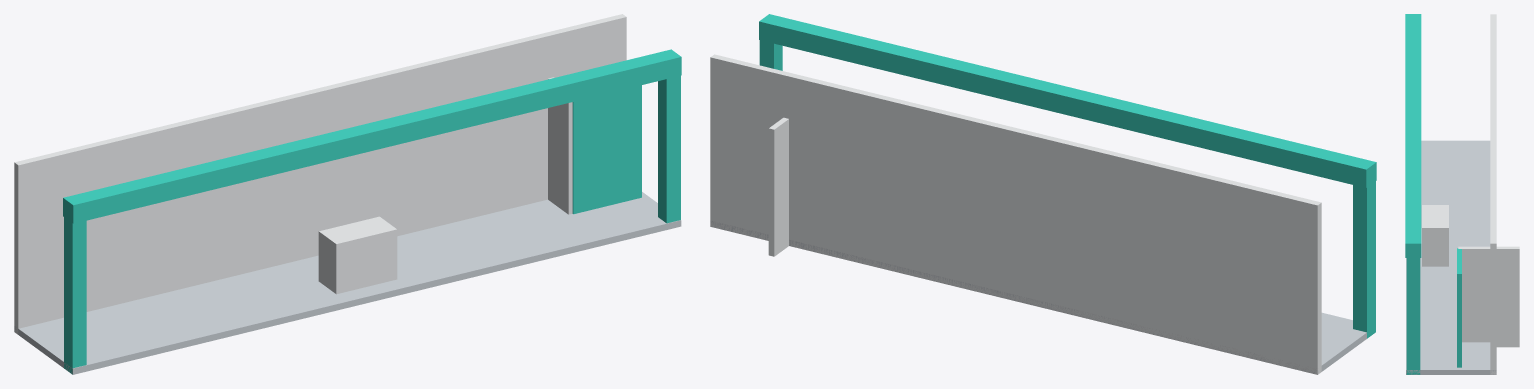
3 views of the same model, side by side, from view 1: azimuth 30°, elevation 25°; view 2: azimuth 150°, elevation 25°; view 3: azimuth 270°, elevation 25° (orthographic). The views are drawn at different scales.
Parts seen in each view (by area): view 1: Exhibition Booth Concept; view 2: Exhibition Booth Concept; view 3: Exhibition Booth Concept.
Part boxes in pixels (box(x1,y1,x2,y2)): Exhibition Booth Concept: box(14, 14, 681, 374); Exhibition Booth Concept: box(710, 14, 1376, 374); Exhibition Booth Concept: box(1405, 14, 1519, 374).
Bounding box in the file's own units: 12 × 3.2 × 2.52.
